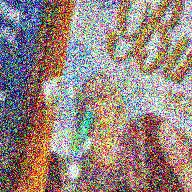러키펜정: (68, 161, 80, 180)
씨엠지세파클러캡슐: (74, 138, 94, 164)
에르도캡슐: (79, 109, 95, 141)
휴티렌정: (70, 130, 81, 155)
